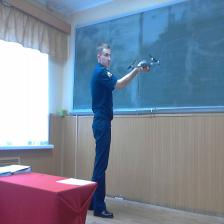drone: (125, 47, 166, 74)
